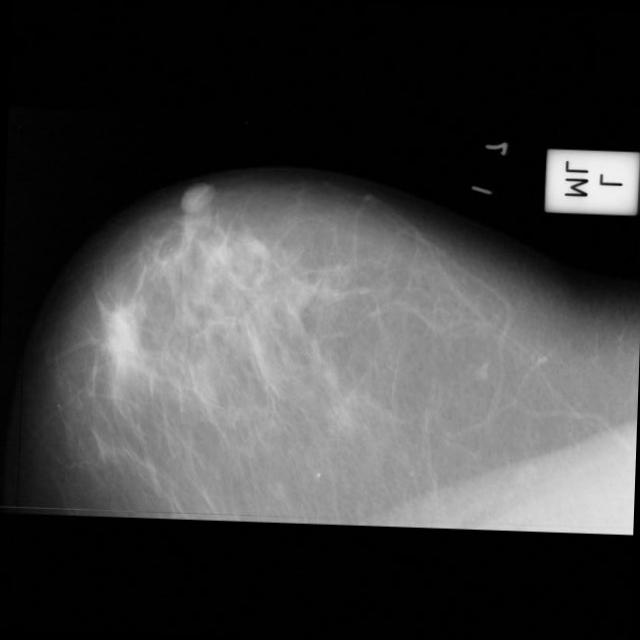ASYM: (96, 308, 146, 358)
